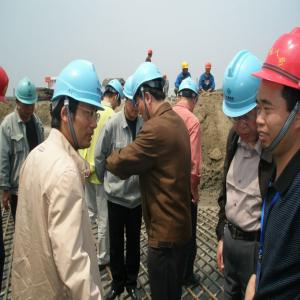blue: (52, 59, 101, 151), (223, 52, 262, 144), (132, 62, 166, 116), (15, 80, 38, 118), (124, 77, 140, 121), (178, 78, 199, 108), (104, 81, 125, 110)
red: (256, 28, 300, 154), (148, 49, 154, 59)
yellow: (181, 62, 190, 75), (205, 62, 213, 75)
